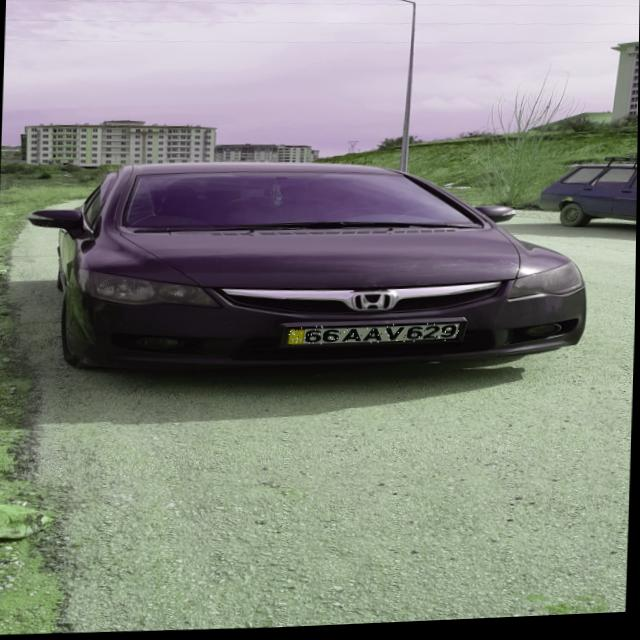plate: (289, 323, 460, 350)
